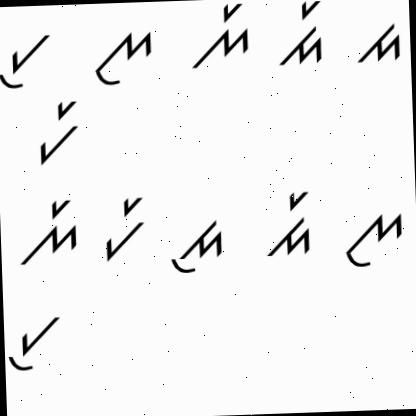da: (352, 18, 406, 70)
dar: (258, 182, 320, 262), (275, 0, 331, 69)
daw: (162, 205, 230, 283)
nar: (10, 194, 84, 270), (187, 0, 253, 71)
naw: (338, 204, 404, 270), (88, 24, 156, 87)
par: (97, 190, 148, 268), (29, 100, 88, 166)
paw: (0, 22, 56, 93), (5, 313, 68, 373)
